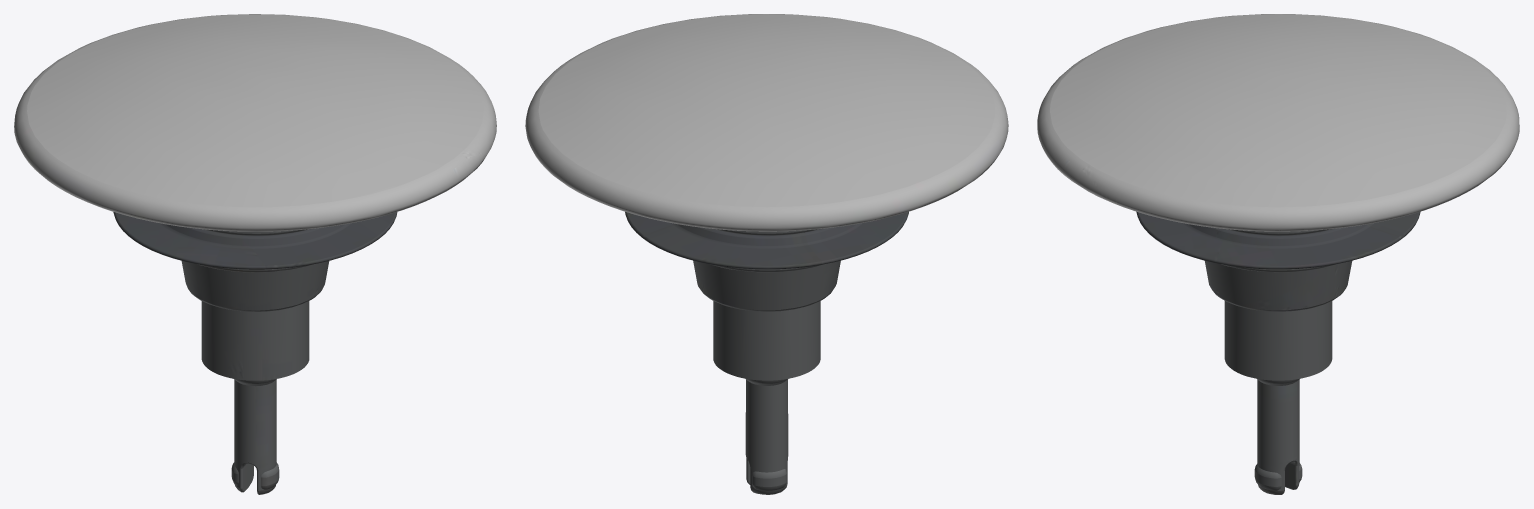
Rendered from RÄNNILEN Bonde à ressort pour lavabo.glb.
3 views of the same model, side by side, from view 1: azimuth 30°, elevation 25°; view 2: azimuth 150°, elevation 25°; view 3: azimuth 270°, elevation 25° (orthographic).
Visible parts, largest first — view 1: model; view 2: model; view 3: model.
Part boxes in pixels (bbox=[...]): model: bbox=[14, 14, 496, 494]; model: bbox=[525, 14, 1008, 494]; model: bbox=[1037, 14, 1519, 494].
Size of the model in its own units: 0.0669 by 0.062 by 0.0669.
1 material, 1 textured.
